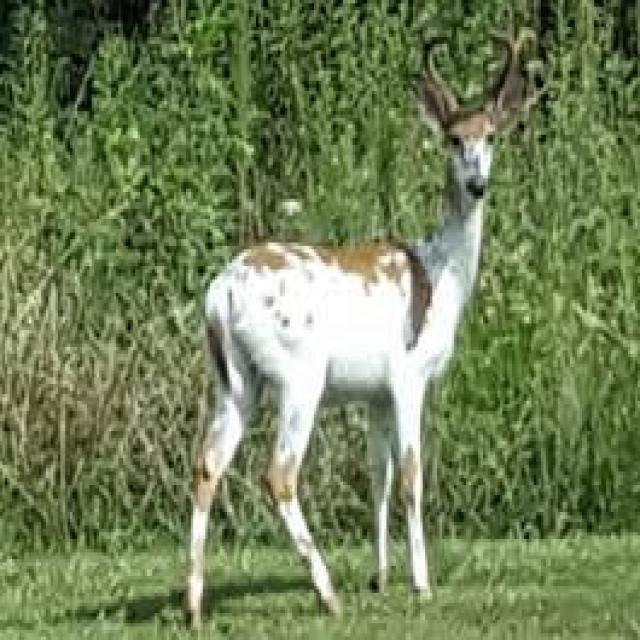deer: (193, 37, 539, 616)
